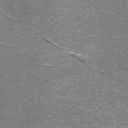finishing roll printing: (98, 68, 128, 83), (42, 36, 62, 50), (68, 51, 86, 64), (2, 10, 16, 22), (24, 26, 28, 30)
